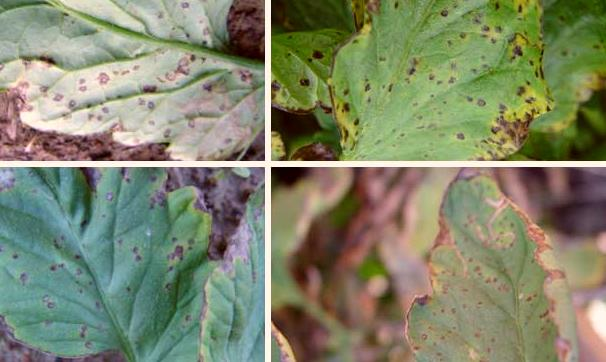Tomato leaf bacterial spot: (310, 0, 554, 163), (0, 172, 205, 362), (0, 0, 247, 155), (385, 169, 574, 362)
